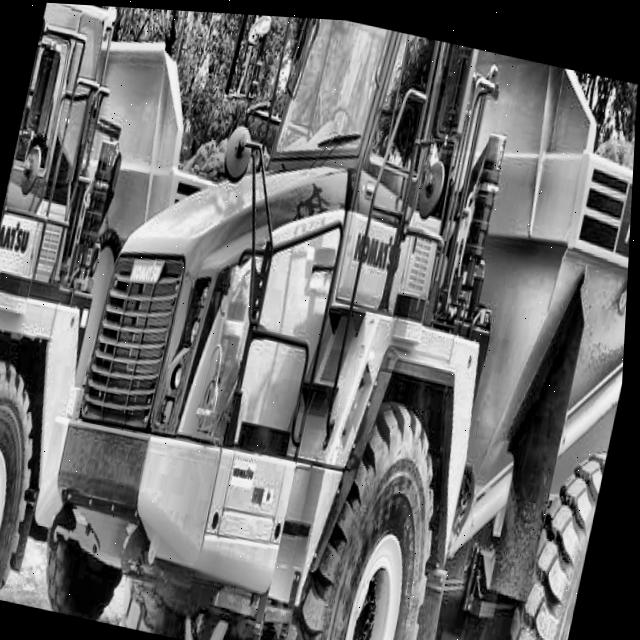dump_truck: (41, 3, 640, 640), (0, 0, 204, 620)
